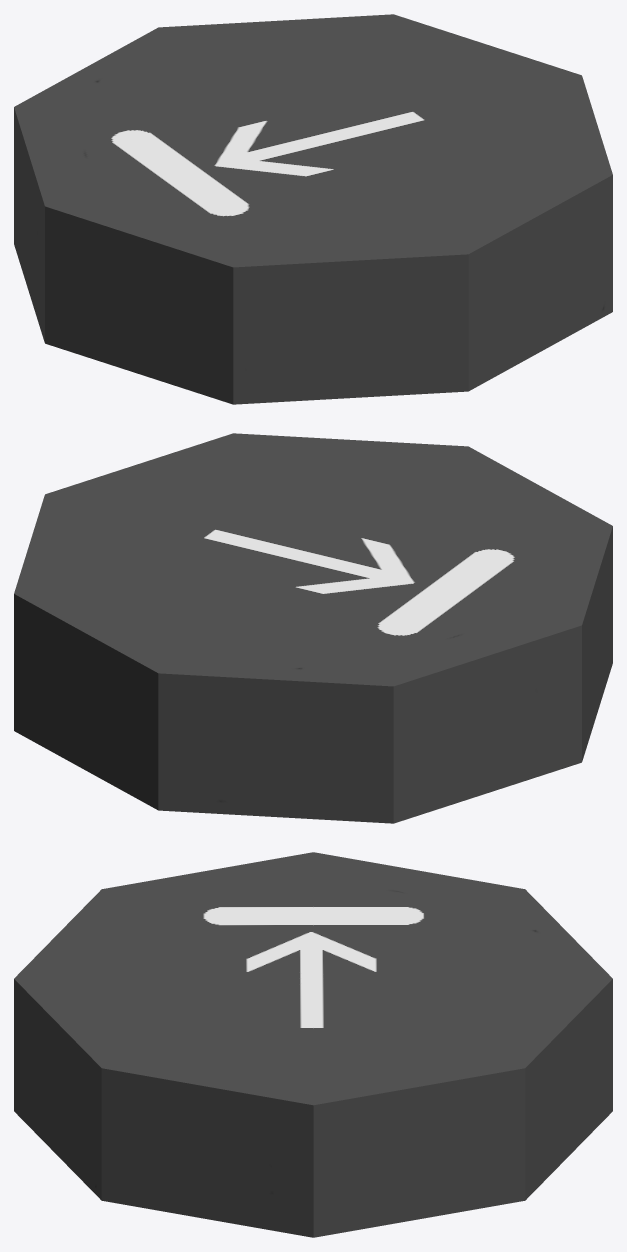
The model's file is Building1_CraneControllerBlackButton.fbx.
The picture shows the model from 3 angles, top to bottom: view 1: azimuth 30°, elevation 25°; view 2: azimuth 150°, elevation 25°; view 3: azimuth 270°, elevation 25°; orthographic projection. The views are drawn at different scales.
Visible parts, largest first — view 1: CraneSmallButton; view 2: CraneSmallButton; view 3: CraneSmallButton.
Part boxes in pixels (x1,y1,x2,y2): CraneSmallButton: [14, 14, 612, 404]; CraneSmallButton: [14, 433, 612, 823]; CraneSmallButton: [14, 852, 612, 1237].
Size of the model in its own units: 4.21 by 1.03 by 4.21.
